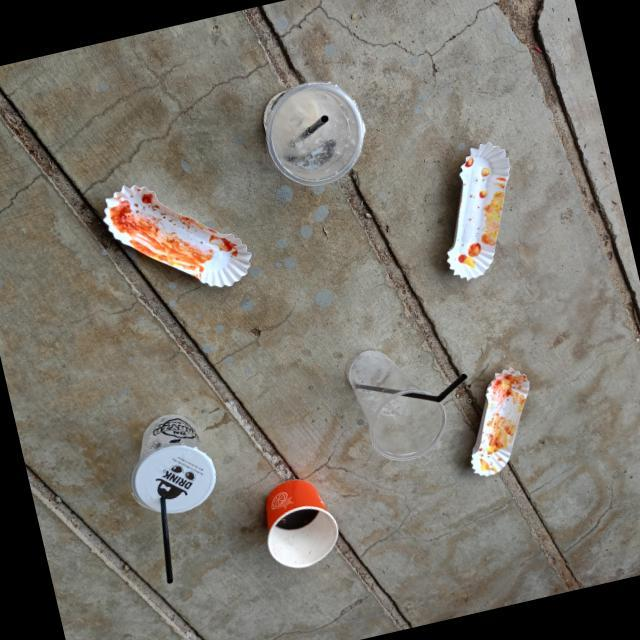recyclable waste: (63, 131, 280, 327), (395, 123, 555, 302), (230, 54, 396, 214), (321, 309, 464, 486), (90, 381, 240, 544), (432, 352, 566, 490), (239, 456, 354, 583)
